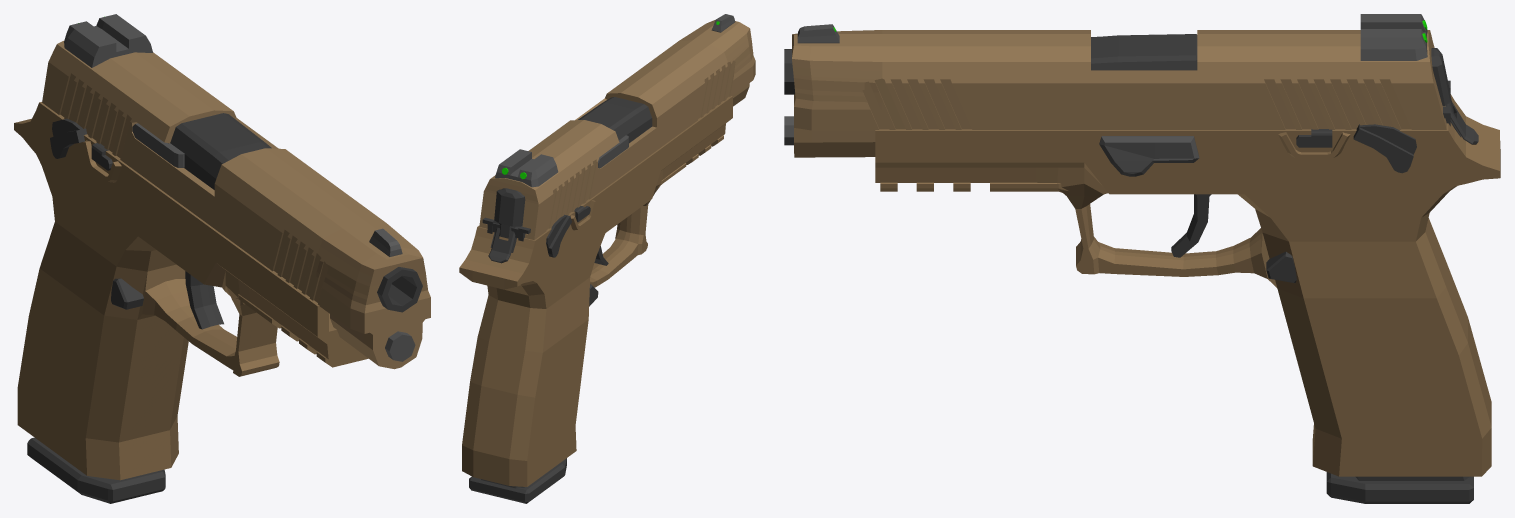
3 views of the same model, side by side, from view 1: azimuth 30°, elevation 25°; view 2: azimuth 150°, elevation 25°; view 3: azimuth 270°, elevation 25° (orthographic). The views are drawn at different scales.
Visible parts, largest first — view 1: Cube, Cube.001, Cylinder, Cube.002, Cube.006, Cube.005, Cube.009; view 2: Cube, Cube.001, Cylinder, Cube.003, Cube.002, Cube.005; view 3: Cube, Cube.001, Cylinder, Cube.002, Cube.007, Cube.005, Cube.003, Cube.006.
Boxes of the visible parts, x1,y1,x2,y2 form: Cube: [14, 102, 368, 480]; Cube.001: [42, 14, 430, 369]; Cylinder: [132, 113, 422, 361]; Cube.002: [27, 143, 168, 503]; Cube.006: [185, 271, 223, 329]; Cube.005: [50, 118, 86, 158]; Cube.009: [111, 278, 143, 309]; Cube: [459, 96, 732, 486]; Cube.001: [479, 14, 755, 239]; Cylinder: [578, 97, 652, 168]; Cube.003: [488, 188, 525, 263]; Cube.002: [469, 458, 566, 503]; Cube.005: [515, 214, 571, 257]; Cube: [875, 94, 1500, 476]; Cube.001: [792, 14, 1446, 157]; Cylinder: [784, 34, 1197, 145]; Cube.002: [1326, 472, 1473, 503]; Cube.007: [1099, 136, 1199, 176]; Cube.005: [1353, 124, 1416, 173]; Cube.003: [1431, 48, 1478, 144]; Cube.006: [1171, 194, 1211, 257].
Bounding box in the file's own units: 0.0373 × 0.1693 × 0.2395.
